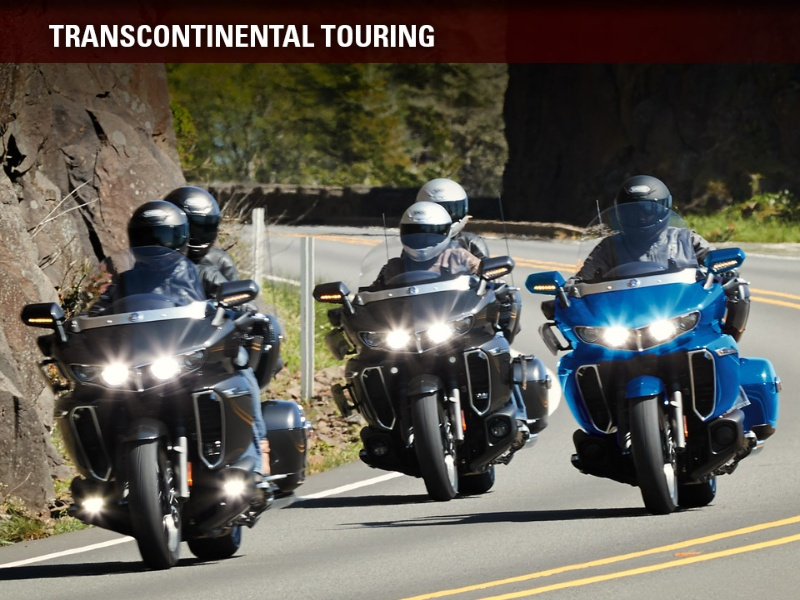motorcycle: (48, 187, 318, 570), (545, 165, 770, 505), (328, 168, 551, 504)
